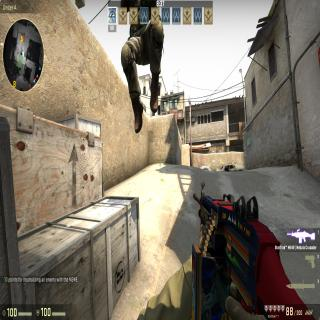CT-Body: (120, 0, 163, 131)
